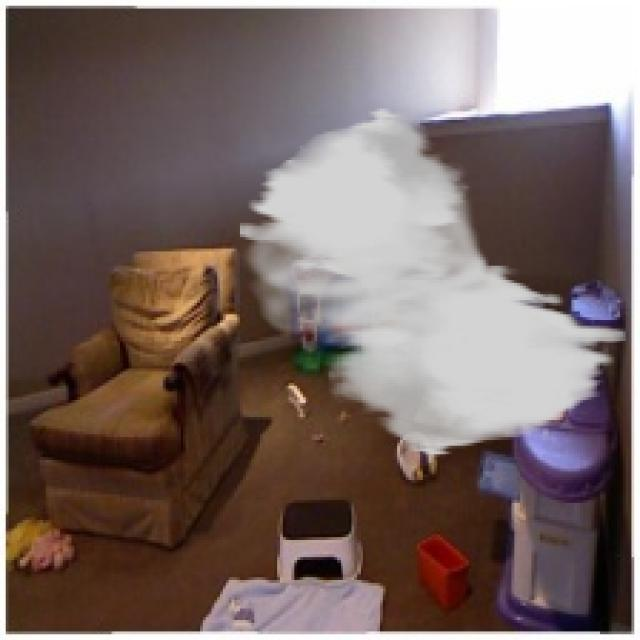smoke: (237, 106, 626, 457)
